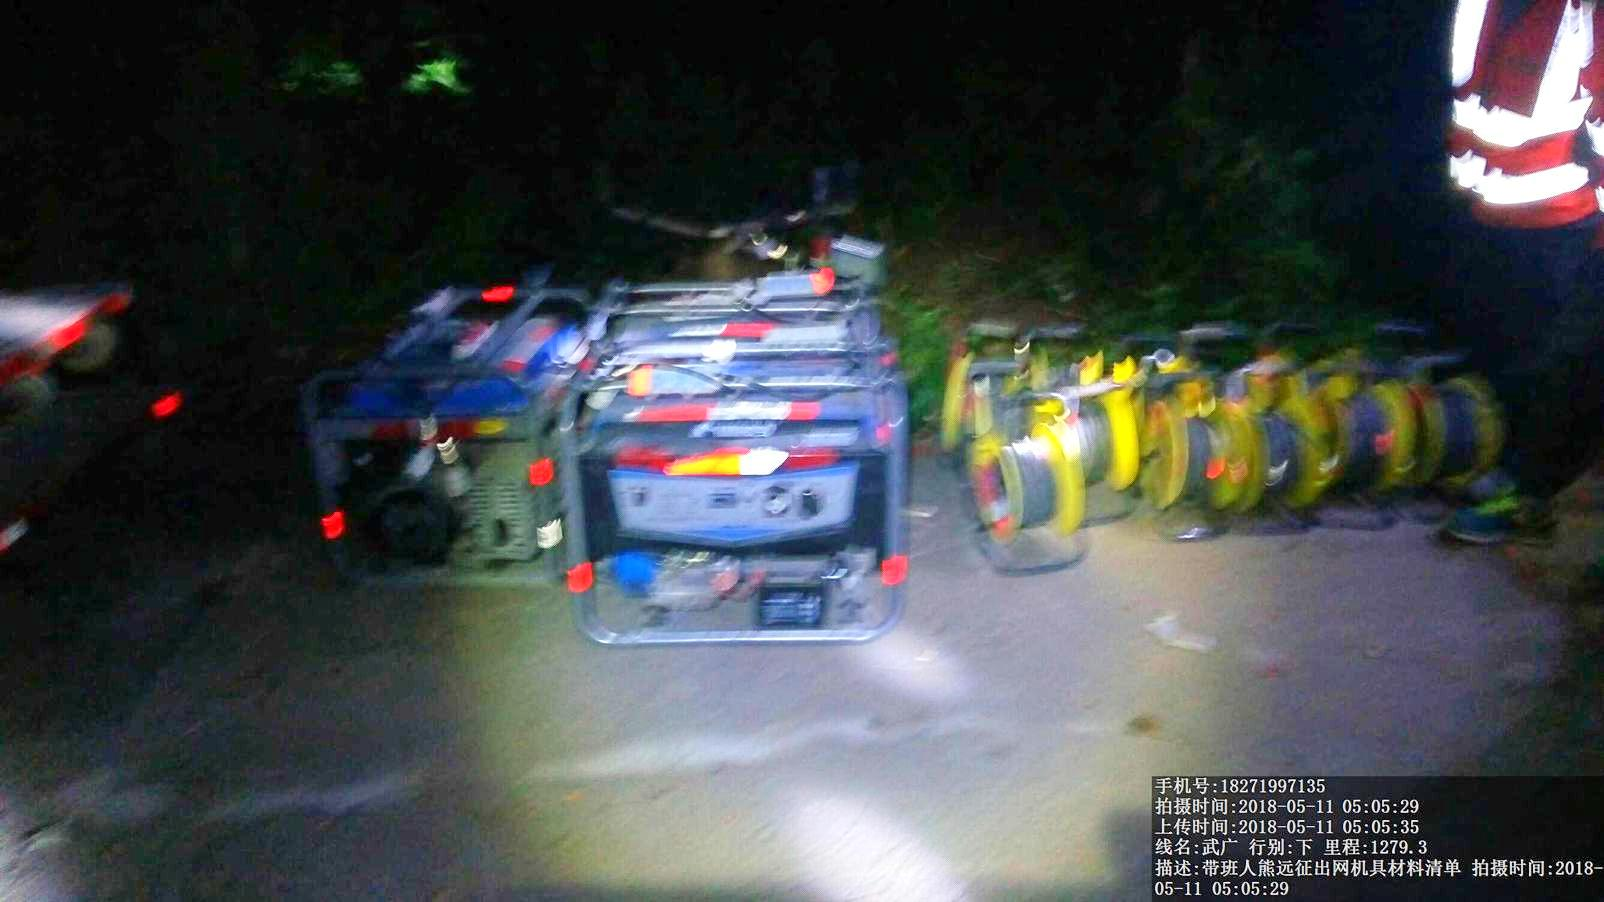DJ: (552, 332, 931, 663)
DX: (952, 403, 1104, 584), (1128, 395, 1256, 546)
DZ: (278, 279, 594, 593)
